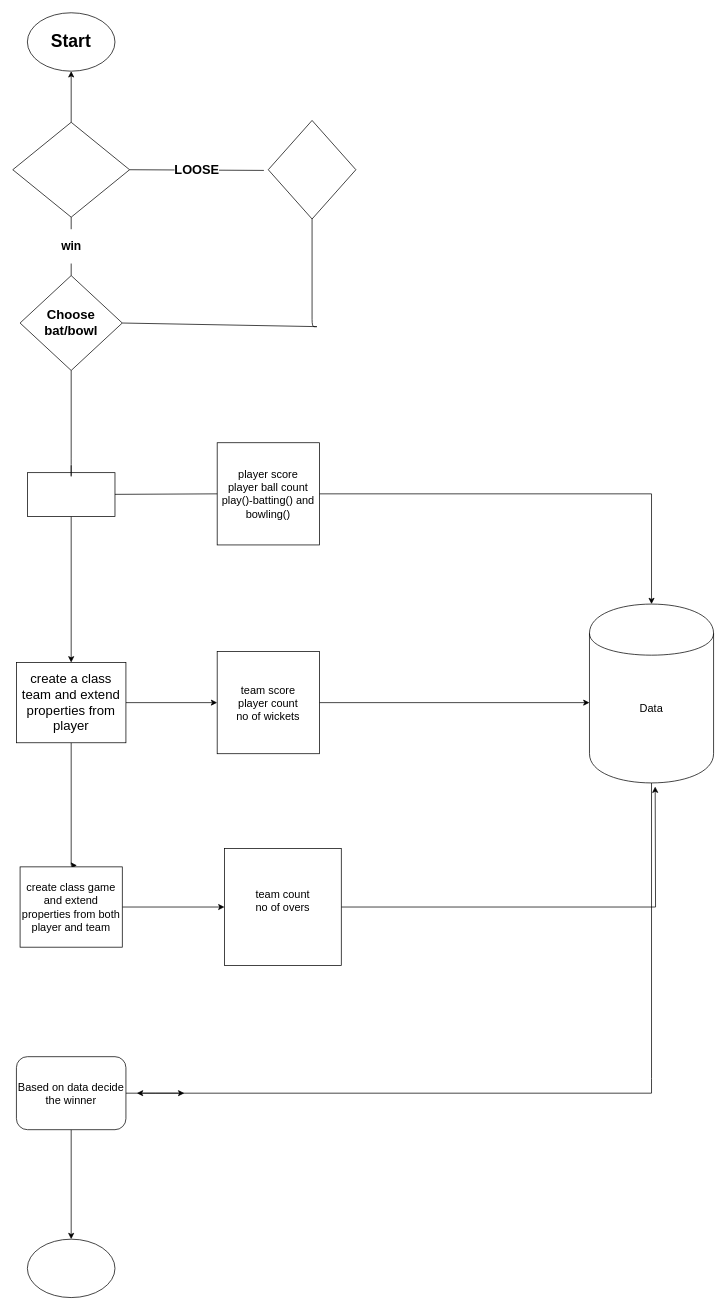
Image size: 726x1310. Some labels were removed from this diagram. Each missing label, with the centre of its shape:
"Create a class player" belongs at point (71, 494).
"END" belongs at point (71, 1268).
"Random bat/bowl" belongs at point (312, 169).
"Toss" belongs at point (71, 169).
